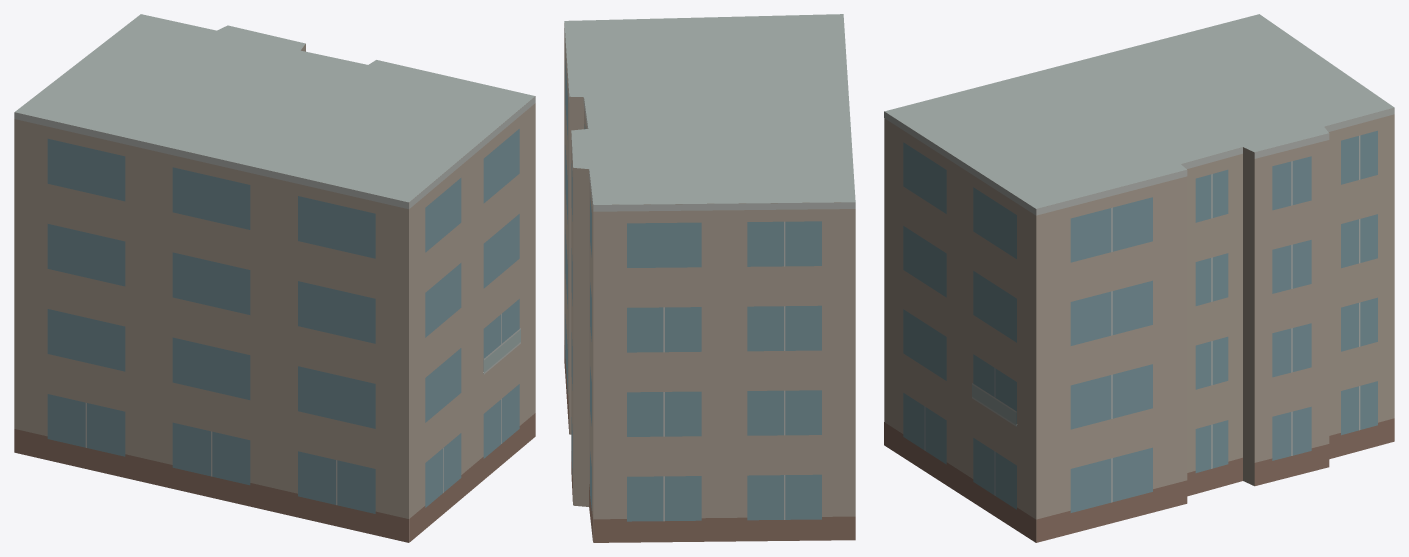
The model's file is survey-upis-32674552.glb.
3 renders of one model, left to right at view 1: azimuth 30°, elevation 25°; view 2: azimuth 150°, elevation 25°; view 3: azimuth 270°, elevation 25°, orthographic.
Visible parts, largest first — view 1: survey-upis-32674552.tmp; view 2: survey-upis-32674552.tmp; view 3: survey-upis-32674552.tmp.
Boxes of the visible parts, x1,y1,x2,y2 form: survey-upis-32674552.tmp: (14, 14, 535, 542); survey-upis-32674552.tmp: (564, 14, 855, 542); survey-upis-32674552.tmp: (884, 14, 1394, 542).
Bounding box in the file's own units: 15.29 × 12.2 × 16.91.
